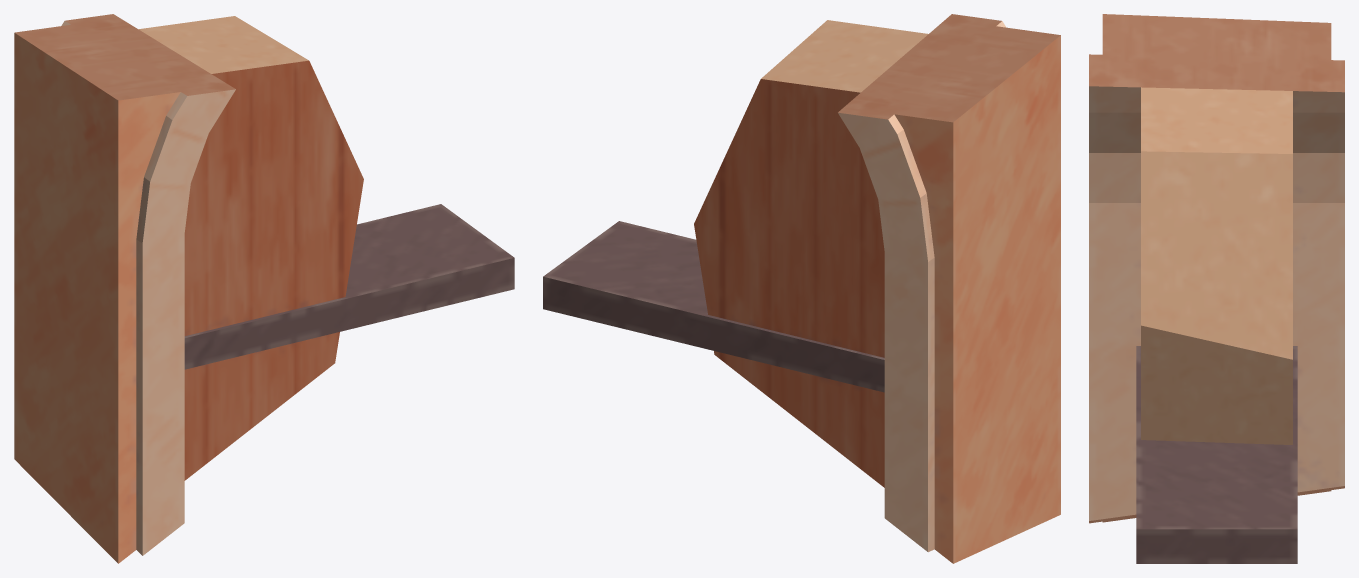
Rendered from towngate_s04.fbx.
3 renders of one model, left to right at view 1: azimuth 30°, elevation 25°; view 2: azimuth 150°, elevation 25°; view 3: azimuth 270°, elevation 25°, orthographic. The views are drawn at different scales.
Visible parts, largest first — view 1: towngate_s04; view 2: towngate_s04; view 3: towngate_s04.
Part boxes in pixels (<box>): towngate_s04: <box>14,14,514,563</box>; towngate_s04: <box>543,14,1060,563</box>; towngate_s04: <box>1089,14,1344,563</box>.
Bounding box in the file's own units: 6.85 × 7.37 × 3.36.
